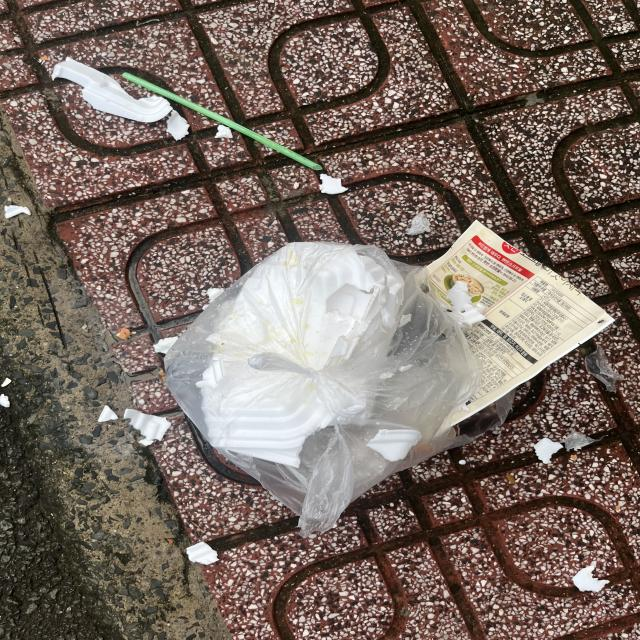drinking straw: (120, 70, 324, 172)
packet: (413, 218, 618, 439)
trash bag: (162, 240, 482, 539)
